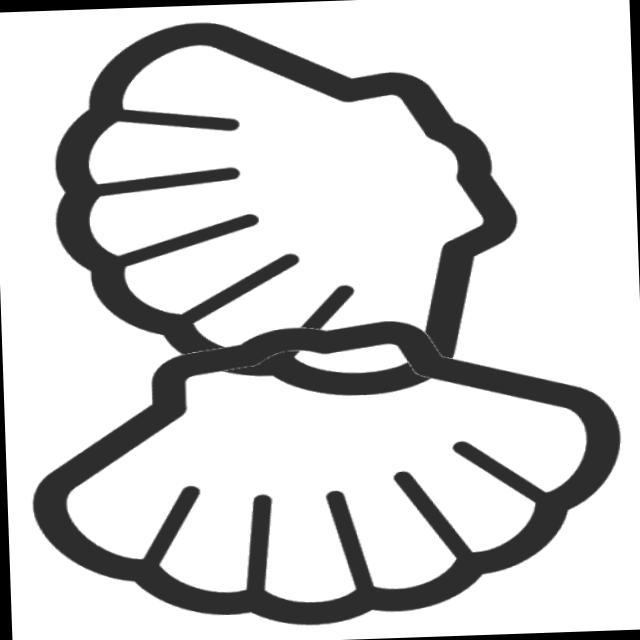shell: (19, 307, 635, 640), (40, 8, 532, 415)
